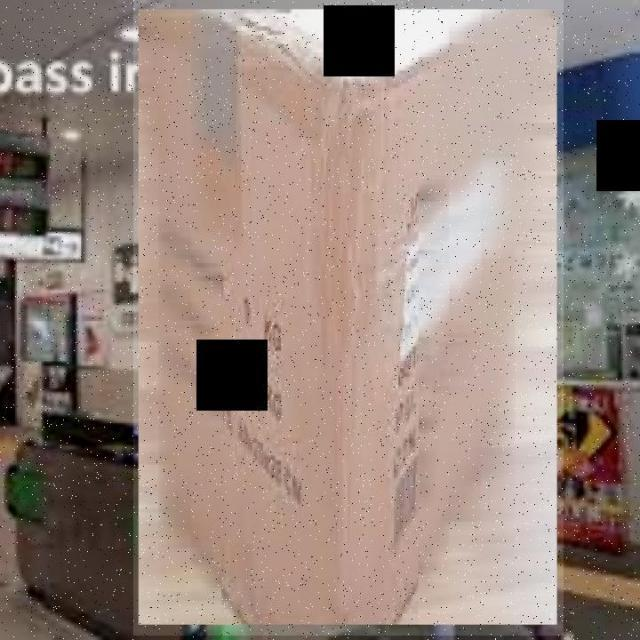box: (134, 0, 564, 636)
